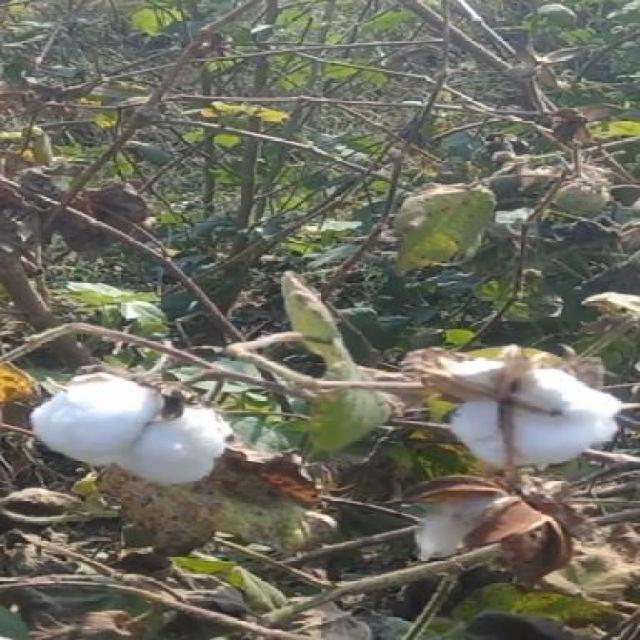cotton_ready: (28, 363, 301, 486), (426, 337, 612, 486)
